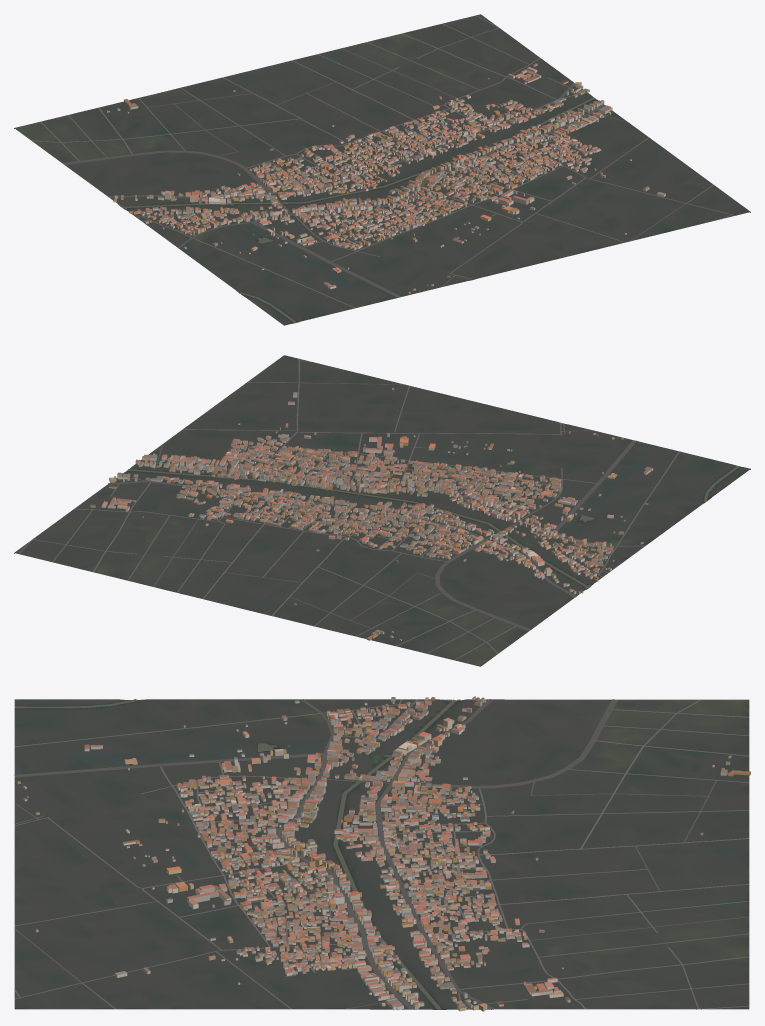
3 renders of one model, top to bottom at view 1: azimuth 30°, elevation 25°; view 2: azimuth 150°, elevation 25°; view 3: azimuth 270°, elevation 25°, orthographic. The views are drawn at different scales.
Parts seen in each view (by area): view 1: ground, buildings, roads, water; view 2: ground, buildings, roads, water; view 3: ground, buildings, roads, water.
Boxes of the visible parts, <box> form: ground: <box>14,14,750,325</box>; buildings: <box>107,63,665,293</box>; roads: <box>32,15,735,308</box>; water: <box>121,97,595,323</box>; ground: <box>14,355,750,666</box>; buildings: <box>90,388,653,640</box>; roads: <box>19,358,679,660</box>; water: <box>127,423,739,588</box>; ground: <box>14,699,749,1009</box>; buildings: <box>17,696,750,1011</box>; roads: <box>14,699,749,1009</box>; water: <box>14,699,460,1009</box>.
Size of the model in its own units: 1412 by 22.7 by 1407.
